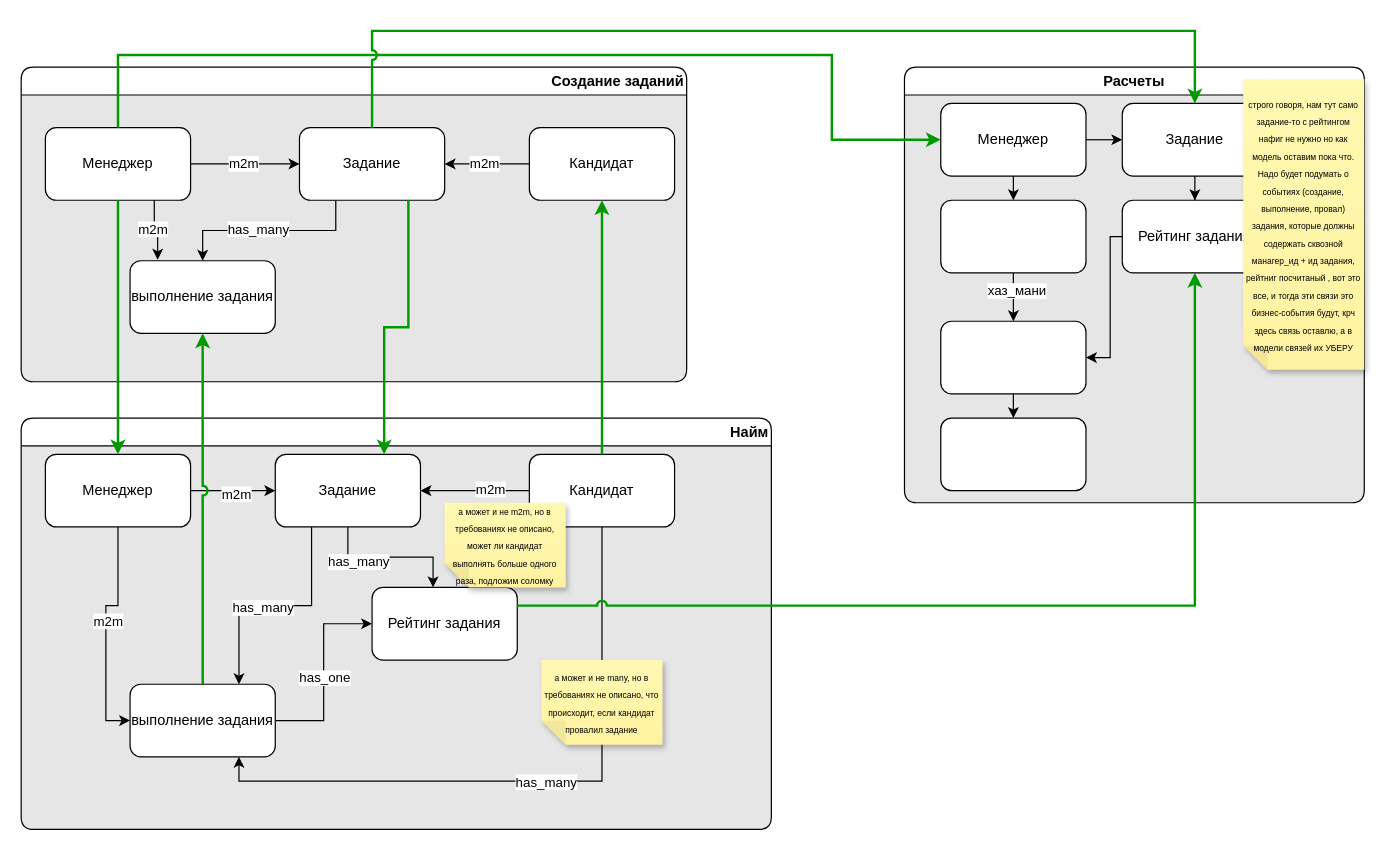
The diagram is 1393 pixels wide and 851 high, and some of its shapes have lost their labels. Each missing label, with the centre of its shape:
"Бонусный счет" belongs at (1013,236).
"Транзакции" belongs at (1013,454).
"Цикл расчетов" belongs at (1013,357).
